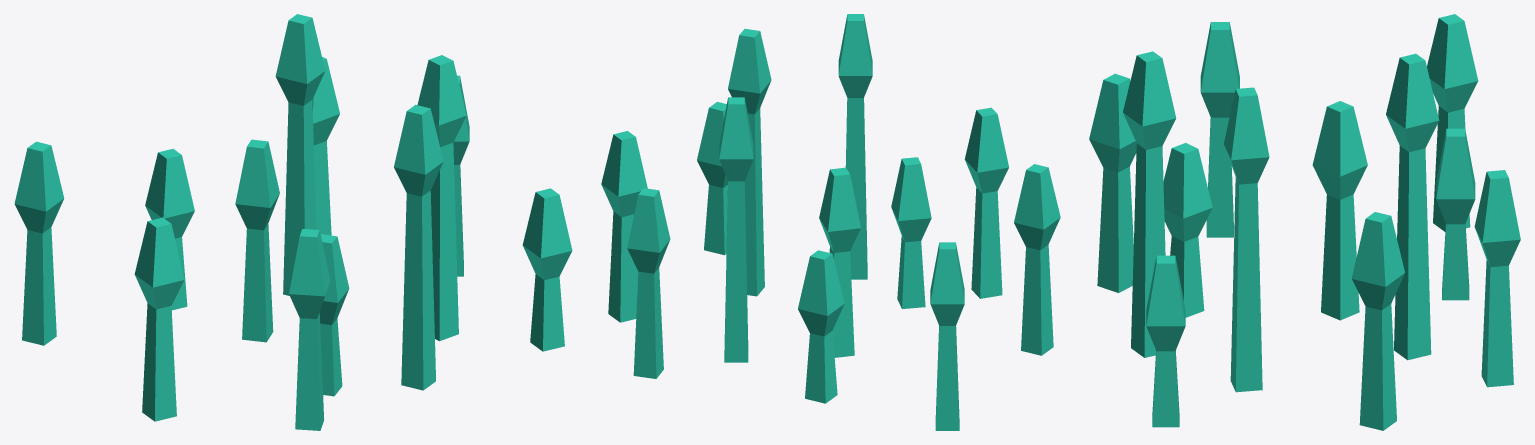
The model's file is crops_wheatStageA.dae.
3 views of the same model, side by side, from view 1: azimuth 30°, elevation 25°; view 2: azimuth 150°, elevation 25°; view 3: azimuth 270°, elevation 25° (orthographic). The views are drawn at different scales.
Visible parts, largest first — view 1: crops_wheatStageA; view 2: crops_wheatStageA; view 3: crops_wheatStageA.
Part boxes in pixels (box(x1,y1,x2,y2)): crops_wheatStageA: box(14, 14, 572, 430); crops_wheatStageA: box(601, 14, 1060, 430); crops_wheatStageA: box(1089, 14, 1520, 430).
Size of the model in its own units: 0.5396 by 0.3349 by 0.4467.
